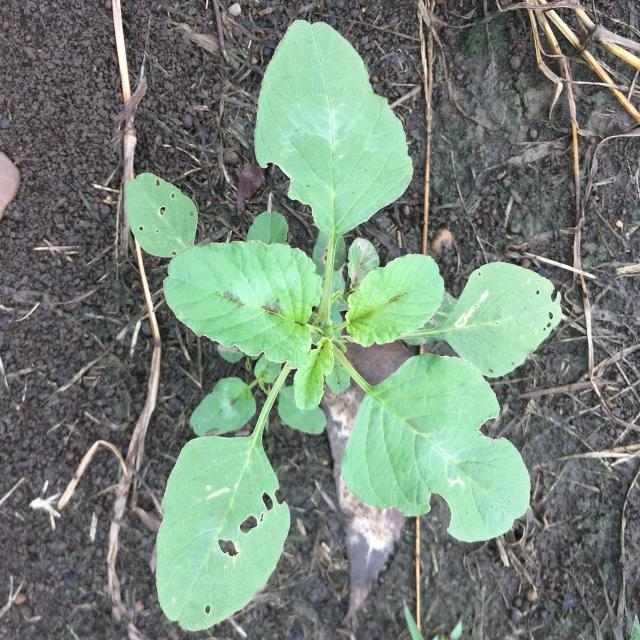PalmerAmaranth: (125, 19, 562, 632)
